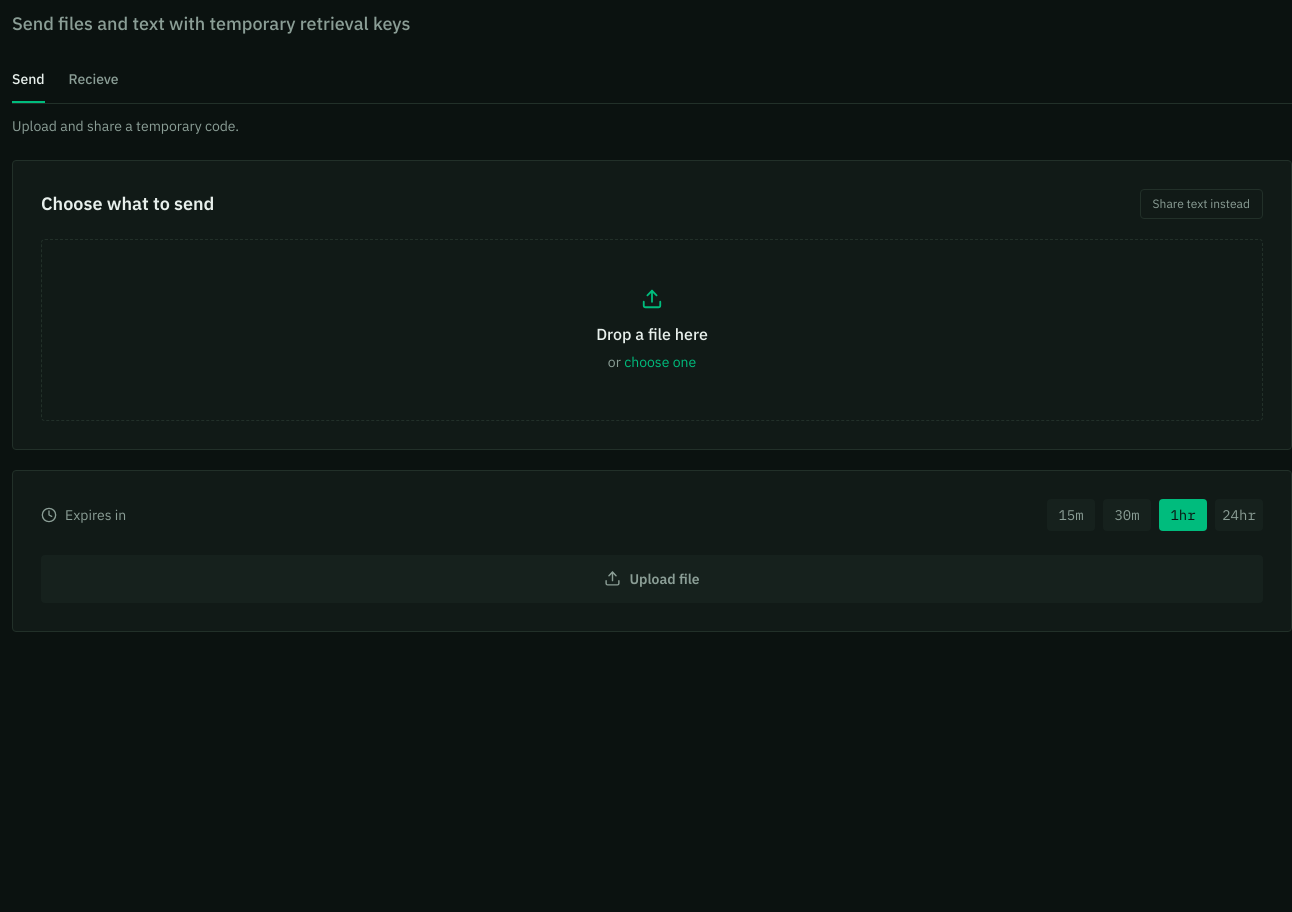
Test: Home Component › switches to RecieveCard when Recieve mode is selected
Click the button "Recieve".
click(94, 80)  # box x1=69 y1=57 x2=119 y2=103
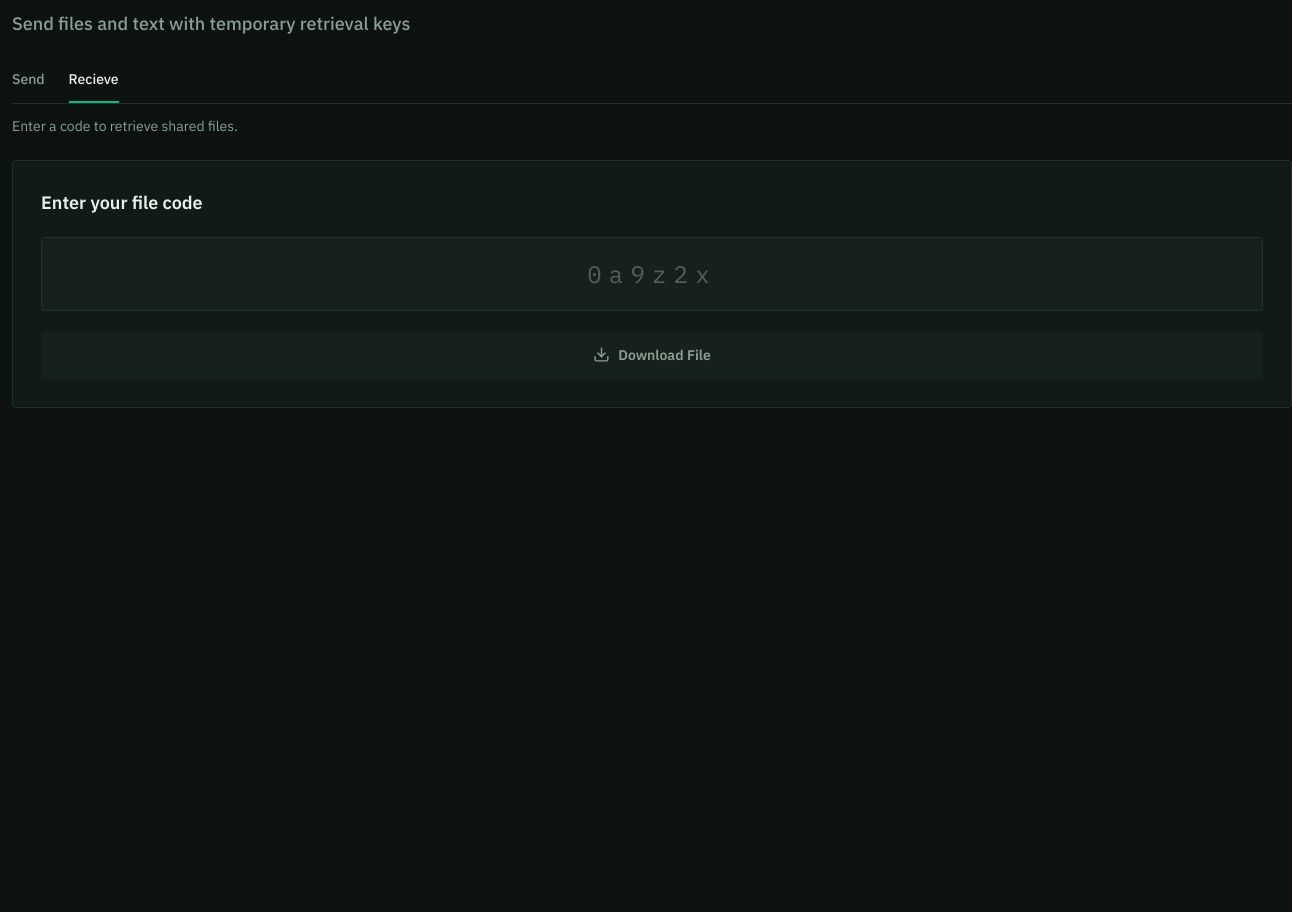
Expected: the heading "Enter your file code" is shown, x1=41 y1=191 x2=203 y2=214
